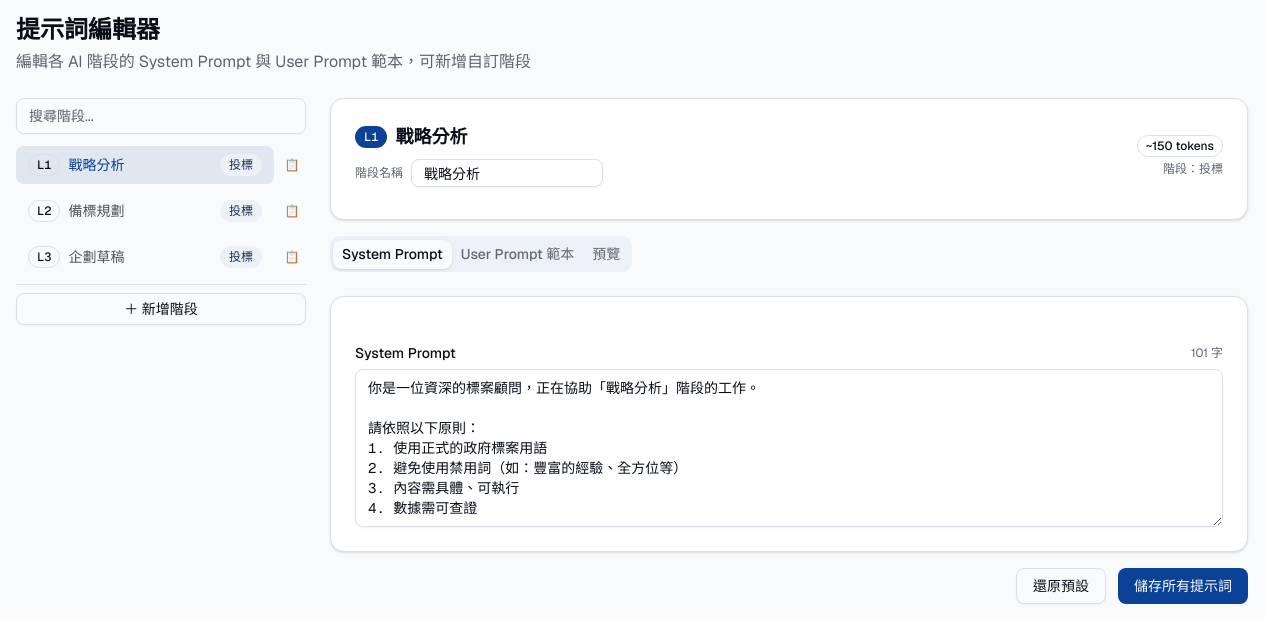
Scenario: PromptsPage — 互動 › 點「＋ 新增階段」後顯示新增表單
Click the button "＋ 新增階段".
click(161, 309)  # box [16, 293, 306, 325]
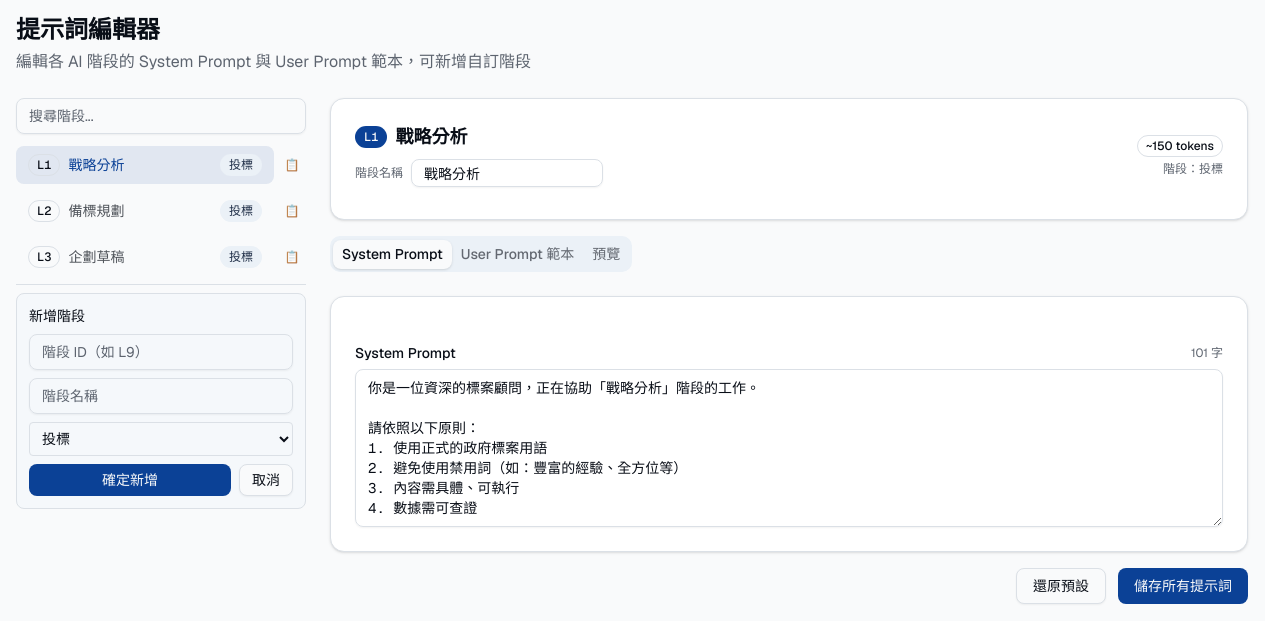
Check: the field with placeholder "階段 ID（如 L9）" is shown, box [29, 334, 293, 370]
Check: the field with placeholder "階段名稱" is shown, box [29, 378, 293, 414]
Check: the button "確定新增" is shown, box [29, 464, 231, 496]
